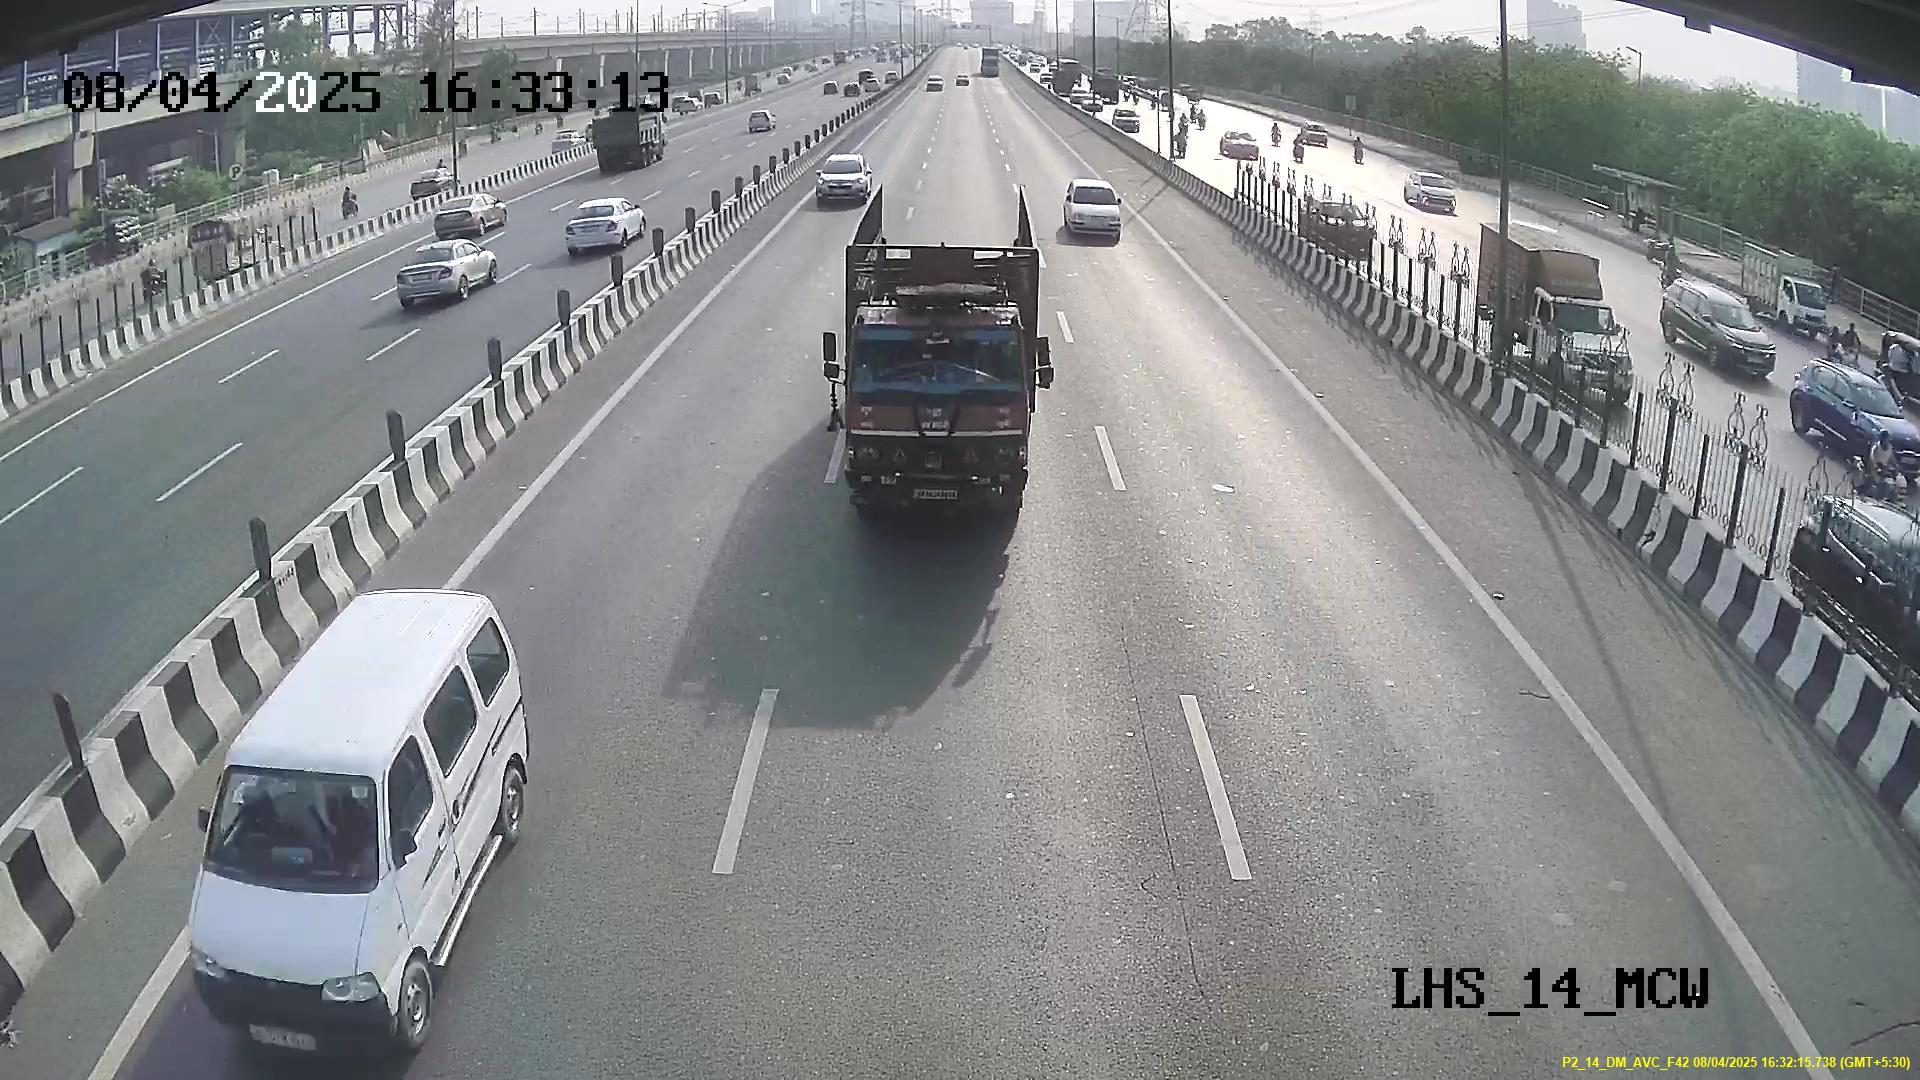car: (186, 721, 456, 1054)
lcv: (828, 305, 1039, 529)
